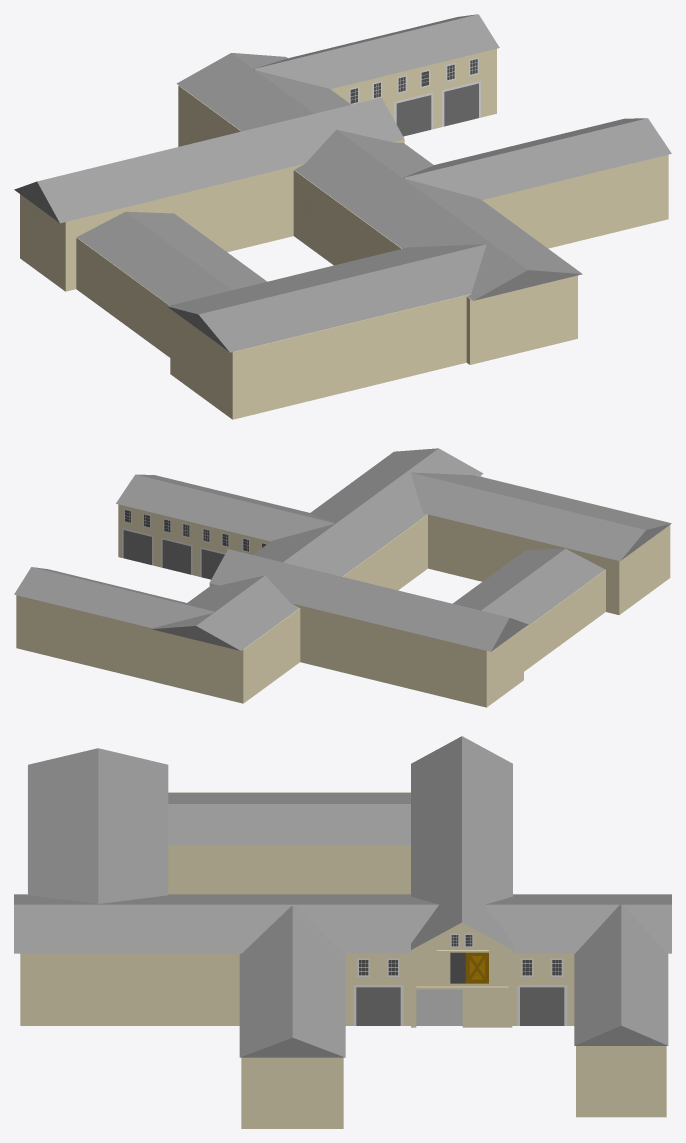
File: Barn.glb
3 renders of one model, top to bottom at view 1: azimuth 30°, elevation 25°; view 2: azimuth 150°, elevation 25°; view 3: azimuth 270°, elevation 25°, orthographic. The views are drawn at different scales.
Visible parts, largest first — view 1: Mesh1 barn1 Model; view 2: Mesh1 barn1 Model; view 3: Mesh1 barn1 Model.
Part boxes in pixels (x1,y1,x2,y2): Mesh1 barn1 Model: (14, 14, 671, 419); Mesh1 barn1 Model: (14, 448, 671, 707); Mesh1 barn1 Model: (14, 736, 671, 1128).
Size of the model in its own units: 175 by 29.5 by 167.
